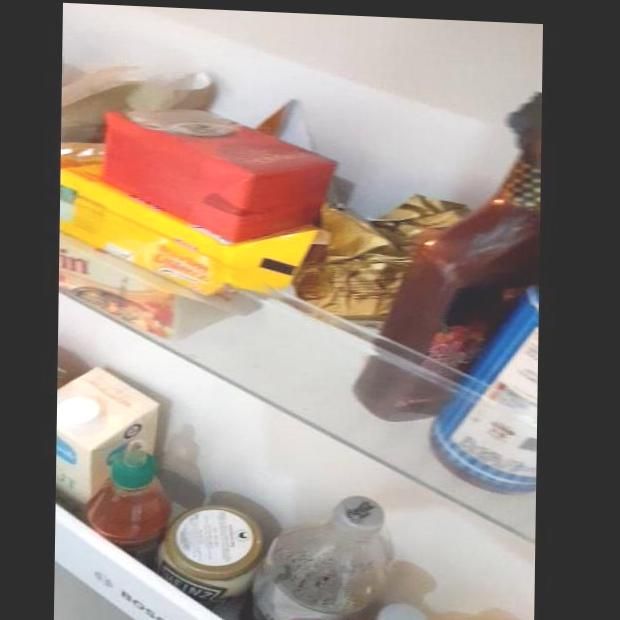butter: (57, 175, 281, 334)
milk: (56, 364, 139, 492)
sauce: (364, 138, 534, 404), (94, 441, 170, 554)
